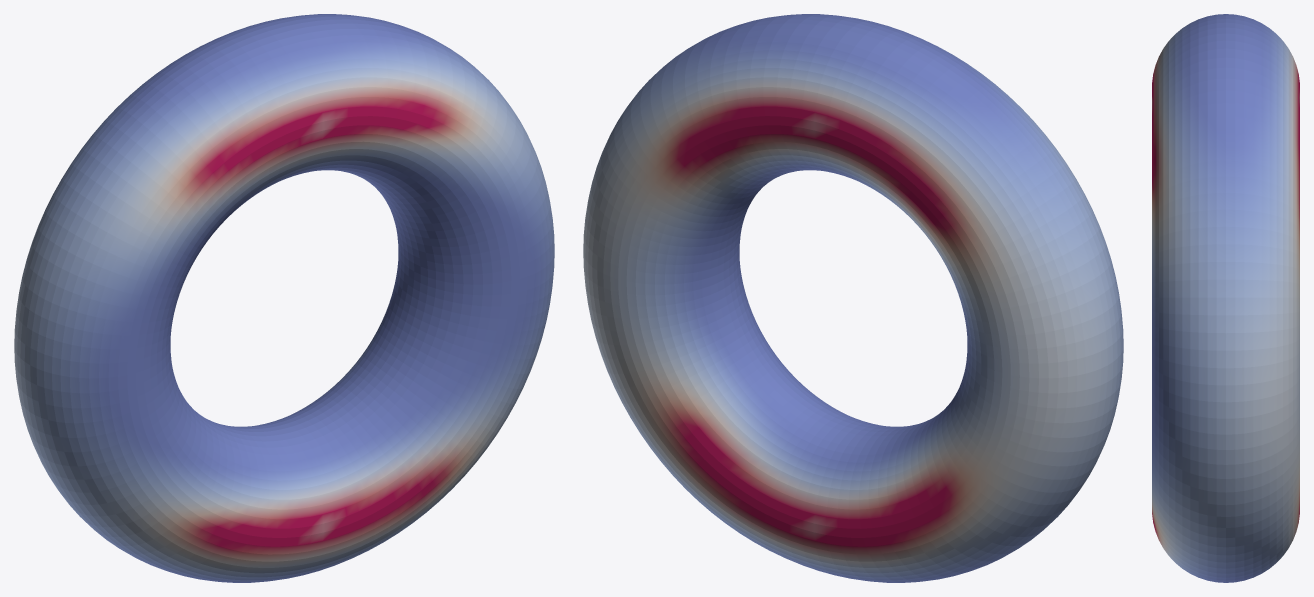
3 renders of one model, left to right at view 1: azimuth 30°, elevation 25°; view 2: azimuth 150°, elevation 25°; view 3: azimuth 270°, elevation 25°, orthographic. The views are drawn at different scales.
Visible parts, largest first — view 1: world; view 2: world; view 3: world.
Part boxes in pixels (x1,y1,x2,y2): world: [14, 14, 554, 582]; world: [583, 14, 1123, 582]; world: [1152, 14, 1299, 582].
Bounding box in the file's own units: 18.93 × 18.93 × 4.92.
